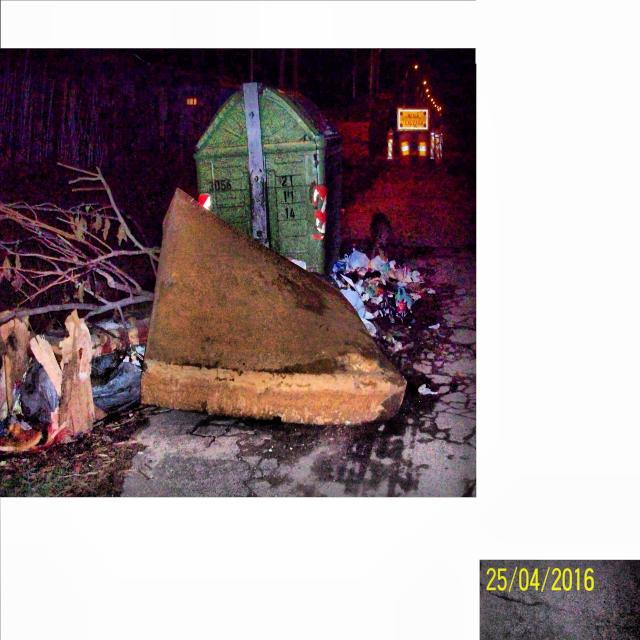garbage: (162, 202, 472, 425), (0, 310, 161, 436)
